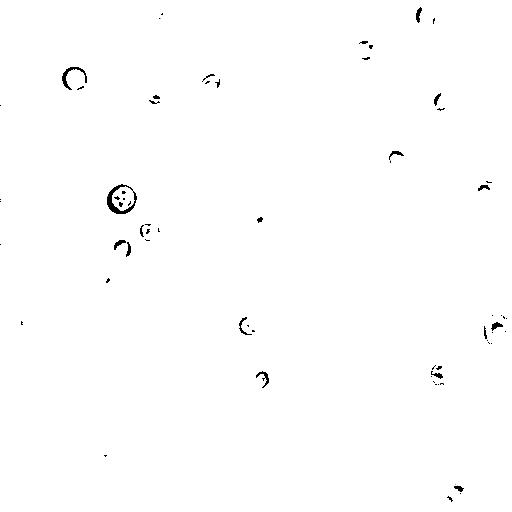micro-algae: (432, 471, 473, 511), (243, 201, 277, 233), (484, 313, 512, 350), (107, 183, 137, 215), (62, 63, 89, 92), (429, 358, 457, 385), (414, 4, 439, 31), (197, 73, 224, 96), (138, 221, 163, 243), (352, 39, 379, 59), (153, 5, 176, 27), (473, 178, 495, 201), (97, 447, 118, 471), (92, 266, 114, 287), (5, 309, 27, 330), (431, 91, 454, 111), (236, 315, 259, 335), (387, 149, 409, 169), (114, 237, 131, 259), (254, 369, 270, 387)
